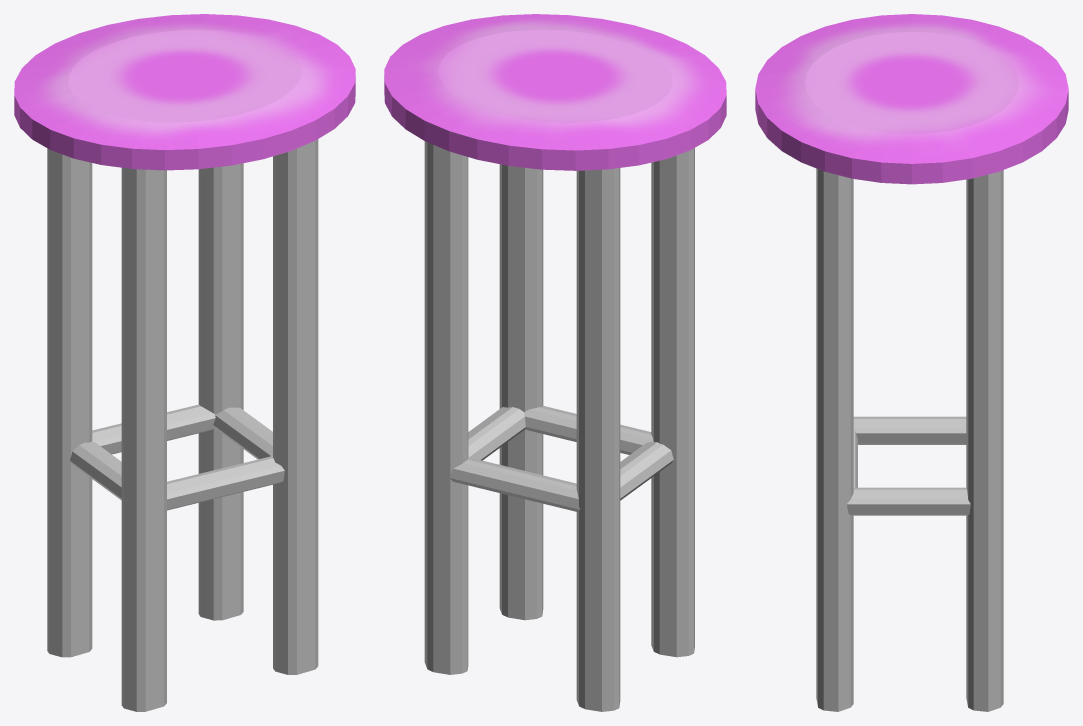
The model's file is Asiento.fbx.
3 views of the same model, side by side, from view 1: azimuth 30°, elevation 25°; view 2: azimuth 150°, elevation 25°; view 3: azimuth 270°, elevation 25° (orthographic).
Visible parts, largest first — view 1: Cylinder.004; view 2: Cylinder.004; view 3: Cylinder.004.
Boxes of the visible parts, bbox=[...] form: Cylinder.004: bbox=[14, 14, 355, 711]; Cylinder.004: bbox=[384, 14, 726, 711]; Cylinder.004: bbox=[755, 14, 1068, 711].
Size of the model in its own units: 61.57 by 112 by 54.4.
